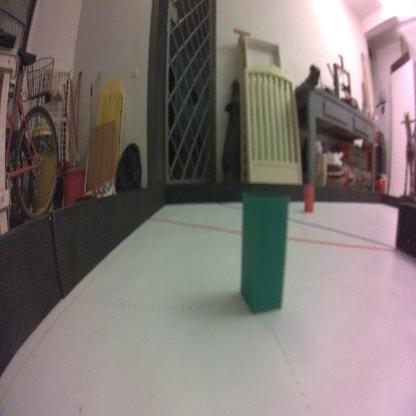green: (238, 187, 290, 317)
red: (303, 182, 315, 214)
